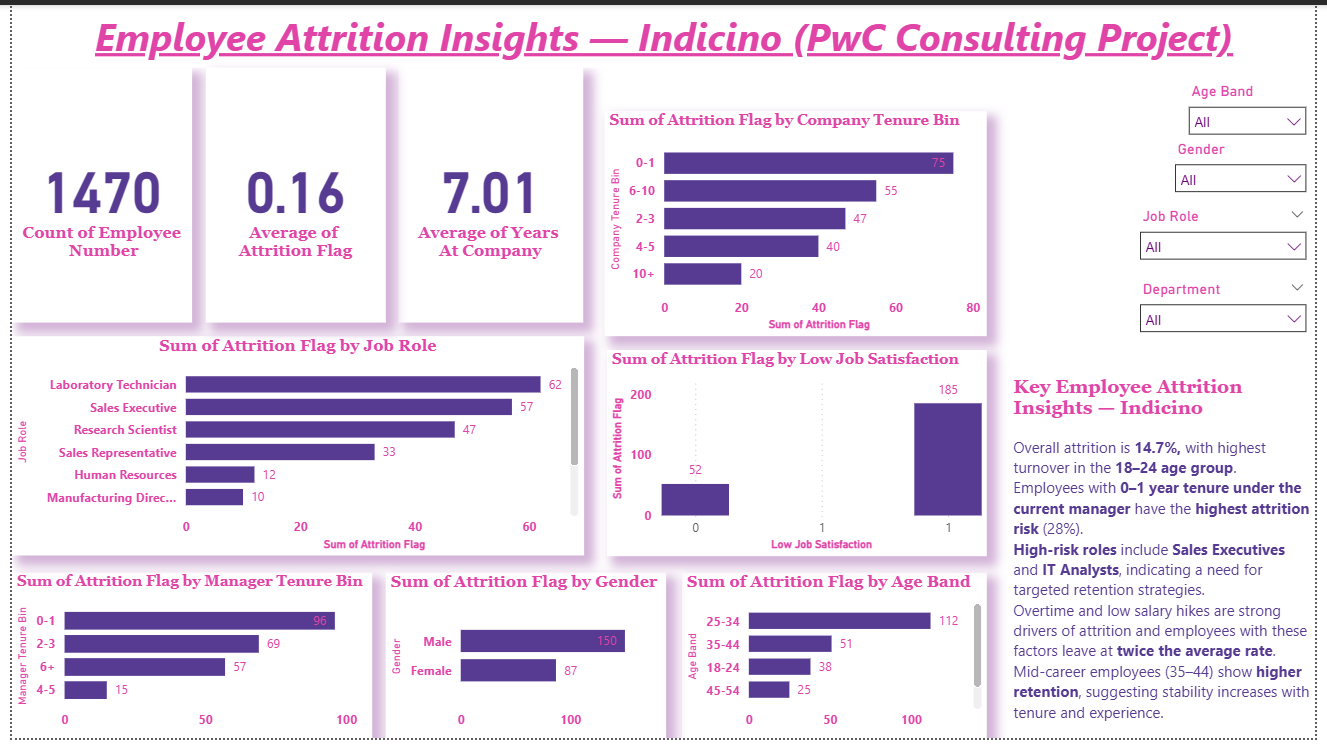

This screenshot's page, from the dashboard's own definition file:
{"tool":"powerbi","page":{"name":"Page 1","canvas":[1280,720],"ordinal":0},"visuals":[{"type":"barChart","fields":{"Category":["indicino_cleaned_engineered.Age Band"],"Y":["Sum(indicino_cleaned_engineered.Attrition Flag)"]},"box":[657.7,557.1,299.4,163.2],"z":0},{"type":"barChart","fields":{"Y":["Sum(indicino_cleaned_engineered.Attrition Flag)"],"Category":["indicino_cleaned_engineered.Manager Tenure Bin"]},"box":[0,557.1,353.4,163.2],"z":1000},{"type":"barChart","fields":{"Y":["Sum(indicino_cleaned_engineered.Attrition Flag)"],"Category":["indicino_cleaned_engineered.Gender"]},"box":[366.9,557.1,274.8,163.2],"z":2000},{"type":"card","fields":{"Values":["CountNonNull(indicino_cleaned_engineered.Employee Number)"]},"box":[0,61.4,176.7,250.3],"z":3000},{"type":"card","fields":{"Values":["Avg(indicino_cleaned_engineered.Years At Company)","select"]},"box":[379.1,61.4,181.6,250.3],"z":4000},{"type":"barChart","fields":{"Category":["indicino_cleaned_engineered.Job Role"],"Y":["Sum(indicino_cleaned_engineered.Attrition Flag)"]},"box":[0,325.2,561.2,215.4],"z":5000},{"type":"barChart","fields":{"Y":["Sum(indicino_cleaned_engineered.Attrition Flag)"],"Category":["indicino_cleaned_engineered.Company Tenure Bin"]},"box":[581.6,104.3,375.5,220.9],"z":6000},{"type":"columnChart","fields":{"Category":["indicino_cleaned_engineered.Low Job Satisfaction","indicino_cleaned_engineered.Overtime Flag"],"Y":["Sum(indicino_cleaned_engineered.Attrition Flag)"]},"box":[584.1,338.7,373,202.5],"z":7000},{"type":"slicer","fields":{"Values":["indicino_cleaned_engineered.Department"]},"box":[1096.4,264.8,183.9,60.4],"z":8000},{"type":"slicer","fields":{"Values":["indicino_cleaned_engineered.Job Role"]},"box":[1096.4,193.5,183.9,72.7],"z":9000},{"type":"slicer","fields":{"Values":["indicino_cleaned_engineered.Age Band"]},"box":[1144.4,71.4,135.8,68.6],"z":10000},{"type":"slicer","fields":{"Values":["indicino_cleaned_engineered.Gender"]},"box":[1130.7,127.6,149.6,65.9],"z":11000},{"type":"textbox","box":[0,0,1280.3,61.7],"z":12000},{"type":"card","fields":{"Values":["Avg(indicino_cleaned_engineered.Attrition Flag)"]},"box":[190.2,61.4,176.7,250.3],"z":13000},{"type":"textbox","box":[977.9,359.5,301.8,360.7],"z":14000}]}

Visuals, with their boxes in screenshot pixels (x1, y1, x2, y2), scaled from the page's 1280x720 canvas onto the 1327x745 screenshot:
barChart - indicino_cleaned_engineered.Age Band x Sum(indicino_cleaned_engineered.Attrition Flag): region(682, 576, 992, 744)
barChart - Sum(indicino_cleaned_engineered.Attrition Flag) x indicino_cleaned_engineered.Manager Tenure Bin: region(0, 576, 366, 744)
barChart - Sum(indicino_cleaned_engineered.Attrition Flag) x indicino_cleaned_engineered.Gender: region(380, 576, 665, 744)
card - CountNonNull(indicino_cleaned_engineered.Employee Number): region(0, 64, 183, 323)
card - Avg(indicino_cleaned_engineered.Years At Company) x select: region(393, 64, 581, 323)
barChart - indicino_cleaned_engineered.Job Role x Sum(indicino_cleaned_engineered.Attrition Flag): region(0, 336, 582, 559)
barChart - Sum(indicino_cleaned_engineered.Attrition Flag) x indicino_cleaned_engineered.Company Tenure Bin: region(603, 108, 992, 336)
columnChart - indicino_cleaned_engineered.Low Job Satisfaction x indicino_cleaned_engineered.Overtime Flag: region(606, 350, 992, 560)
slicer - indicino_cleaned_engineered.Department: region(1137, 274, 1326, 336)
slicer - indicino_cleaned_engineered.Job Role: region(1137, 200, 1326, 275)
slicer - indicino_cleaned_engineered.Age Band: region(1186, 74, 1326, 145)
slicer - indicino_cleaned_engineered.Gender: region(1172, 132, 1326, 200)
textbox: region(0, 0, 1326, 64)
card - Avg(indicino_cleaned_engineered.Attrition Flag): region(197, 64, 380, 323)
textbox: region(1014, 372, 1326, 744)
